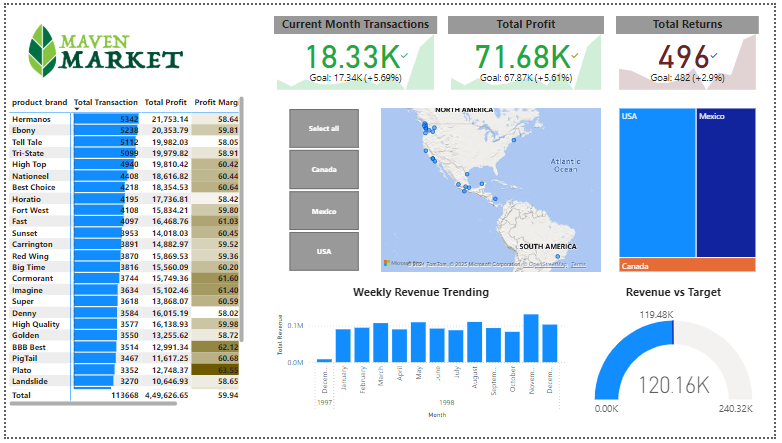

This screenshot's page, from the dashboard's own definition file:
{"tool":"powerbi","page":{"name":"Topline Performance","canvas":[1280,720],"ordinal":0},"visuals":[{"type":"image","box":[25,18.3,280,115],"z":0},{"type":"pivotTable","fields":{"Values":["Measures Table.Total Transaction","Measures Table.Total Profit","Measures Table.Profit Margin","Measures Table.Return Rate"],"Rows":["Products.product_brand"]},"box":[0,146.7,401.7,526.7],"z":1000},{"type":"kpi","title":"Current Month Transactions","fields":{"Indicator":["Measures Table.Total Transaction"],"TrendLine":["Calendar.Start of Month"],"Goal":["Measures Table.Last Month Transaction"]},"box":[446.7,18.3,271.7,128.3],"z":2000},{"type":"kpi","title":"Total Profit","fields":{"TrendLine":["Calendar.Start of Month"],"Indicator":["Measures Table.Total Profit"],"Goal":["Measures Table.Last Month Profit"]},"box":[736.7,18.3,260,128.3],"z":3000},{"type":"kpi","title":"Total Returns","fields":{"TrendLine":["Calendar.Start of Month"],"Indicator":["Measures Table.Total Returns"],"Goal":["Measures Table.Last Month Returns"]},"box":[1016.7,18.3,238.3,128.3],"z":4000},{"type":"map","fields":{"Category":["Stores.store_city"]},"box":[620,166.7,376.7,283.3],"z":5000},{"type":"slicer","fields":{"Values":["Stores.store_country"]},"box":[446.7,166.7,165,283.3],"z":6000},{"type":"treemap","fields":{"Values":["Measures Table.Total Transaction"],"Group":["Stores.store_country","Stores.store_state","Stores.store_city"]},"box":[1016.7,166.7,238.3,283.3],"z":7000},{"type":"clusteredColumnChart","title":"Weekly Revenue Trending","fields":{"Y":["Measures Table.Total Revenue"],"Category":["Calendar.Start of Week.Variation.Date Hierarchy.Year","Calendar.Start of Week.Variation.Date Hierarchy.Month"]},"box":[446.7,465,490,228.3],"z":8000},{"type":"gauge","title":"Revenue vs Target","fields":{"Y":["Measures Table.Total Revenue"],"TargetValue":["Measures Table.Revenue Target"]},"box":[970,465,285,228.3],"z":9000}]}

Visuals, with their boxes in screenshot pixels (x1, y1, x2, y2), scaled from the page's 1280x720 canvas onto the 782x443 screenshot:
image: l=15, t=11, r=186, b=82
pivotTable - Measures Table.Total Transaction x Measures Table.Total Profit: l=0, t=90, r=245, b=414
"Current Month Transactions" kpi: l=273, t=11, r=439, b=90
"Total Profit" kpi: l=450, t=11, r=609, b=90
"Total Returns" kpi: l=621, t=11, r=767, b=90
map - Stores.store_city: l=379, t=103, r=609, b=277
slicer - Stores.store_country: l=273, t=103, r=374, b=277
treemap - Measures Table.Total Transaction x Stores.store_country: l=621, t=103, r=767, b=277
"Weekly Revenue Trending" clusteredColumnChart: l=273, t=286, r=572, b=427
"Revenue vs Target" gauge: l=593, t=286, r=767, b=427
